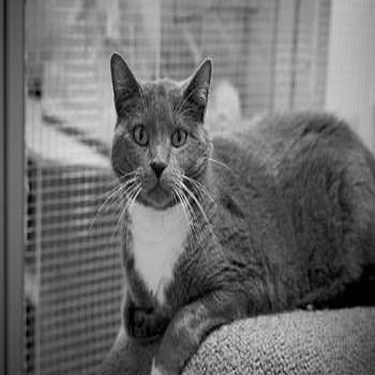cat: (102, 51, 370, 368)
